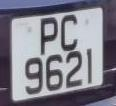1: (83, 46, 96, 89)
2: (64, 48, 86, 91)
6: (43, 53, 66, 96)
9: (21, 52, 46, 99)
C: (58, 12, 80, 51)
P: (37, 14, 60, 58)
